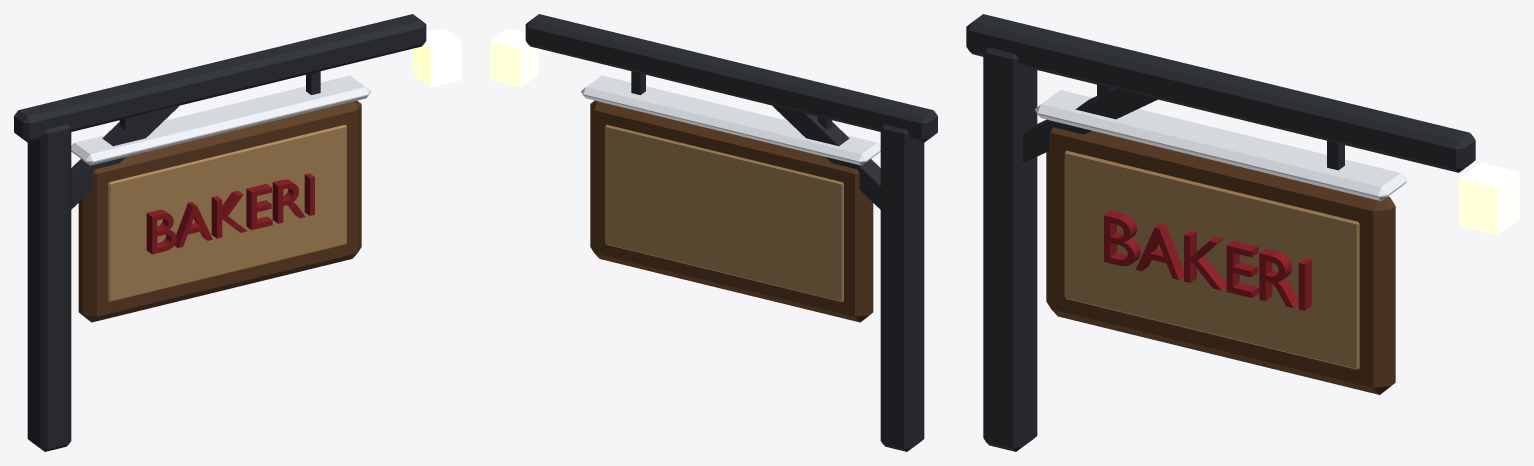
File: shop_sign.glb
3 renders of one model, left to right at view 1: azimuth 30°, elevation 25°; view 2: azimuth 150°, elevation 25°; view 3: azimuth 330°, elevation 25°, orthographic. The views are drawn at different scales.
Visible parts, largest first — view 1: shop_sign; view 2: shop_sign; view 3: shop_sign.
Boxes of the visible parts, x1,y1,x2,y2 form: shop_sign: [14, 14, 461, 451]; shop_sign: [490, 14, 937, 451]; shop_sign: [966, 14, 1519, 451].
Size of the model in its own units: 1.4 by 1.04 by 0.135.
